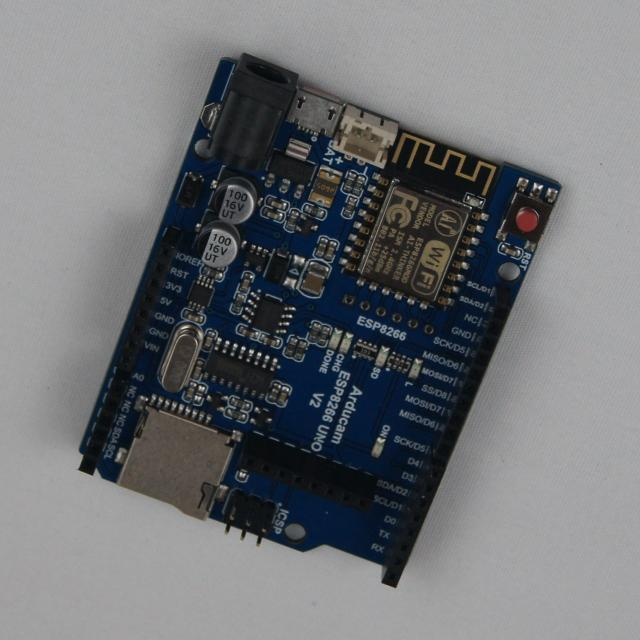Arduino Uno Camera Shield: (81, 55, 561, 587)
